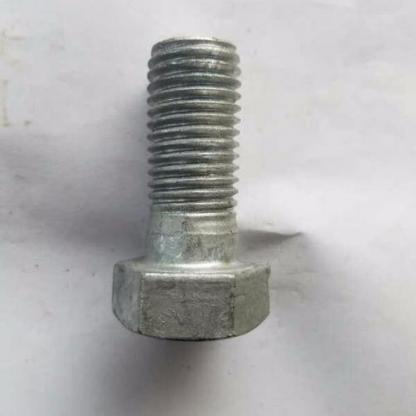FOD: (108, 31, 274, 343)
